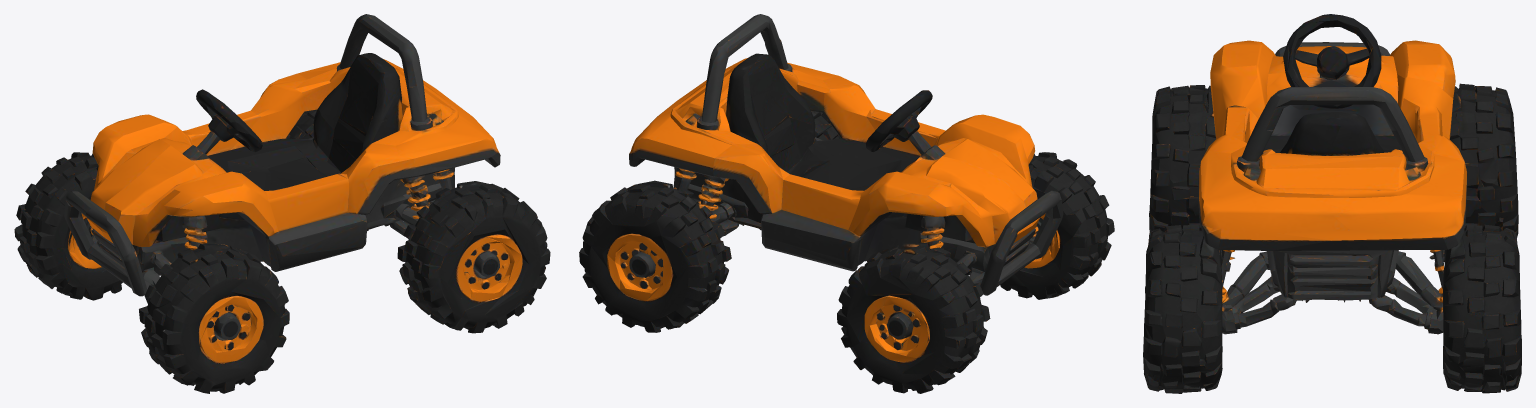
The model's file is k_orange.glb.
The picture shows the model from 3 angles, left to right: view 1: azimuth 30°, elevation 25°; view 2: azimuth 150°, elevation 25°; view 3: azimuth 270°, elevation 25°; orthographic projection. The views are drawn at different scales.
Size of the model in its own units: 1.9 by 1.19 by 1.41.
1 material, 1 textured.
